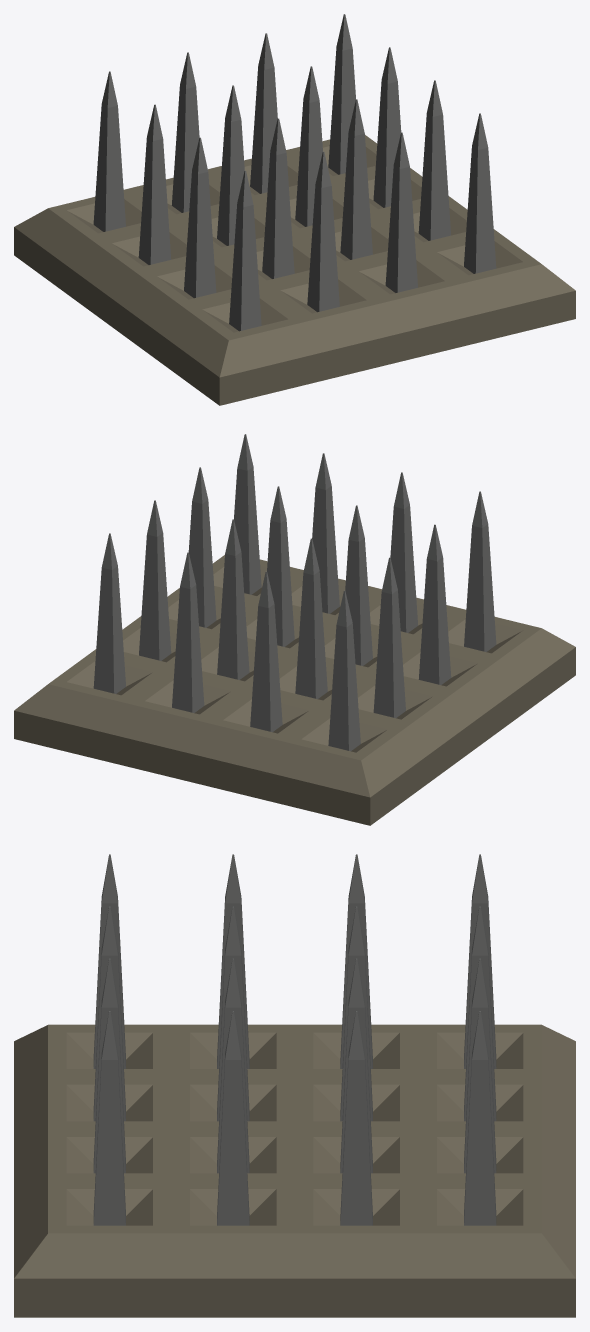
The model's file is Trap.fbx.
3 renders of one model, top to bottom at view 1: azimuth 30°, elevation 25°; view 2: azimuth 150°, elevation 25°; view 3: azimuth 270°, elevation 25°, orthographic. The views are drawn at different scales.
Parts seen in each view (by area): view 1: Trap, Spine; view 2: Trap, Spine; view 3: Trap, Spine.
Part boxes in pixels (bbox=[...]): Trap: bbox=[14, 135, 575, 405]; Spine: bbox=[93, 14, 496, 331]; Trap: bbox=[14, 555, 575, 825]; Spine: bbox=[93, 434, 496, 751]; Trap: bbox=[14, 1024, 575, 1317]; Spine: bbox=[93, 854, 496, 1225].
Size of the model in its own units: 316 by 165 by 316.
